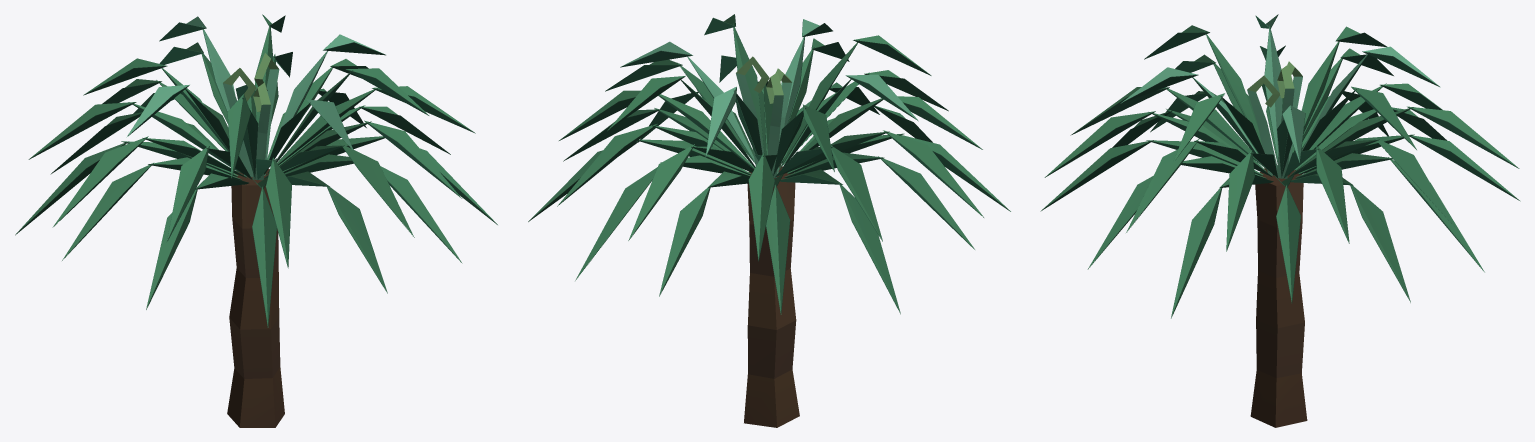
Rendered from custom-xaxim.glb.
3 views of the same model, side by side, from view 1: azimuth 30°, elevation 25°; view 2: azimuth 150°, elevation 25°; view 3: azimuth 270°, elevation 25° (orthographic).
Parts seen in each view (by area): view 1: xaxim; view 2: xaxim; view 3: xaxim.
Part boxes in pixels (<box>): xaxim: <box>15,14,497,427</box>; xaxim: <box>528,14,1010,427</box>; xaxim: <box>1040,14,1520,427</box>.
Bounding box in the file's own units: 6.84 × 5.77 × 6.99.
